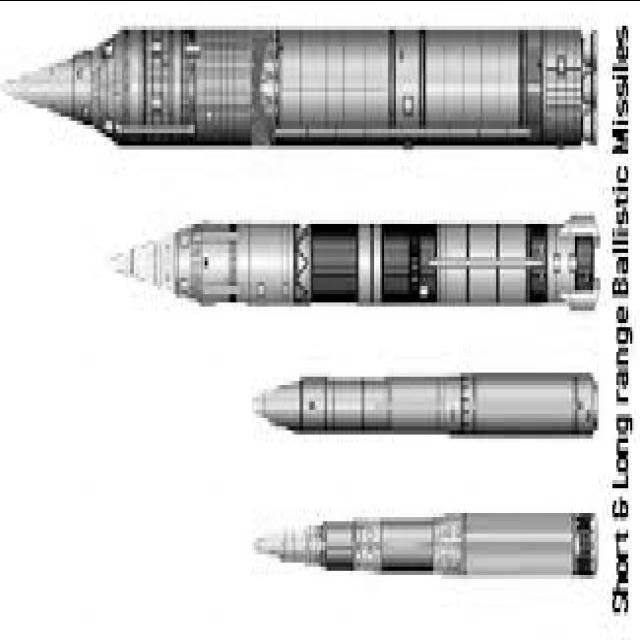missile: (0, 0, 606, 174), (67, 196, 604, 331), (243, 354, 600, 462), (247, 497, 598, 597)
